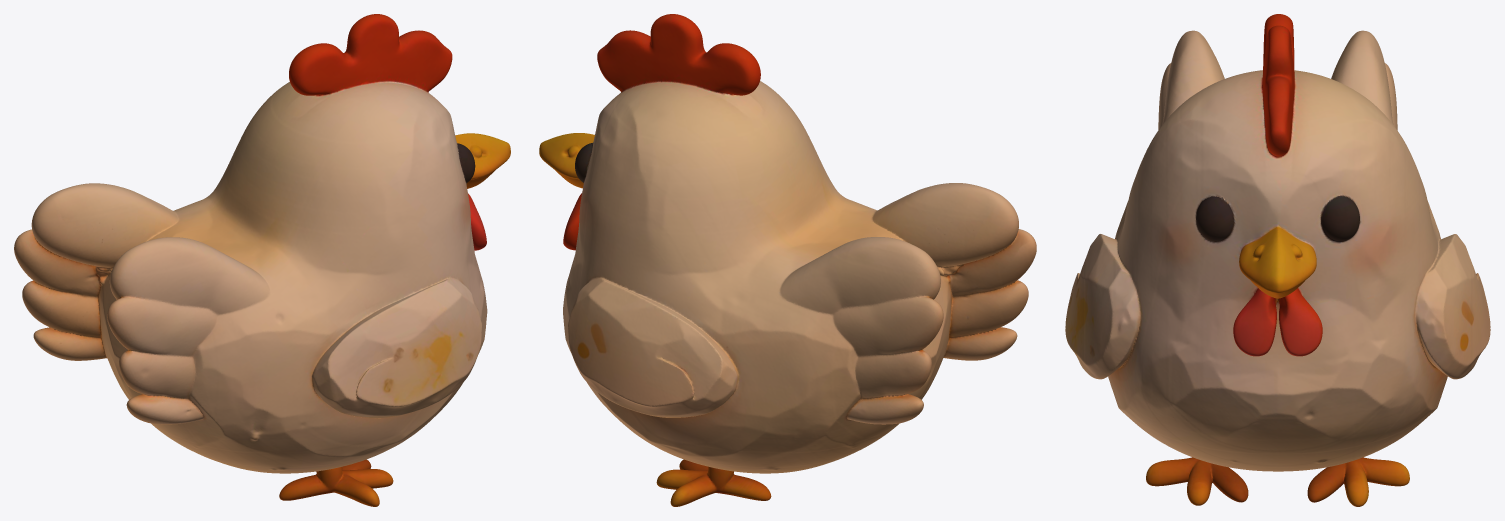
File: chicken.glb
The picture shows the model from 3 angles, left to right: view 1: azimuth 30°, elevation 25°; view 2: azimuth 150°, elevation 25°; view 3: azimuth 270°, elevation 25°; orthographic projection. The views are drawn at different scales.
Parts seen in each view (by area): view 1: tripo_node_33d71e78-c9d9-4704-85ef-27037c768d98; view 2: tripo_node_33d71e78-c9d9-4704-85ef-27037c768d98; view 3: tripo_node_33d71e78-c9d9-4704-85ef-27037c768d98.
Part boxes in pixels (box(x1,y1,x2,y2)): tripo_node_33d71e78-c9d9-4704-85ef-27037c768d98: box(14, 14, 510, 506); tripo_node_33d71e78-c9d9-4704-85ef-27037c768d98: box(539, 14, 1036, 506); tripo_node_33d71e78-c9d9-4704-85ef-27037c768d98: box(1065, 14, 1490, 506).
Bounding box in the file's own units: 1 × 0.9339 × 0.7361.
Materials: 1 (1 with a texture image).
